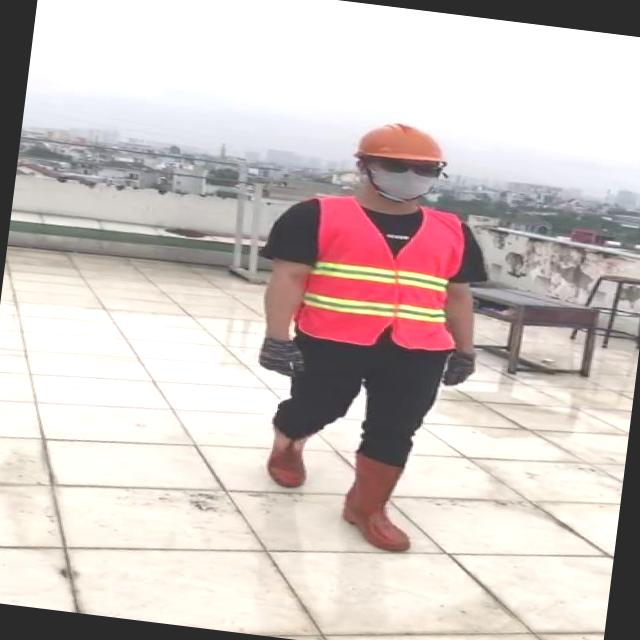boots: (338, 450, 422, 552), (262, 424, 314, 491)
gloves: (253, 333, 310, 378), (440, 350, 476, 386)
helmet: (352, 113, 445, 166)
vest: (286, 193, 469, 354)
